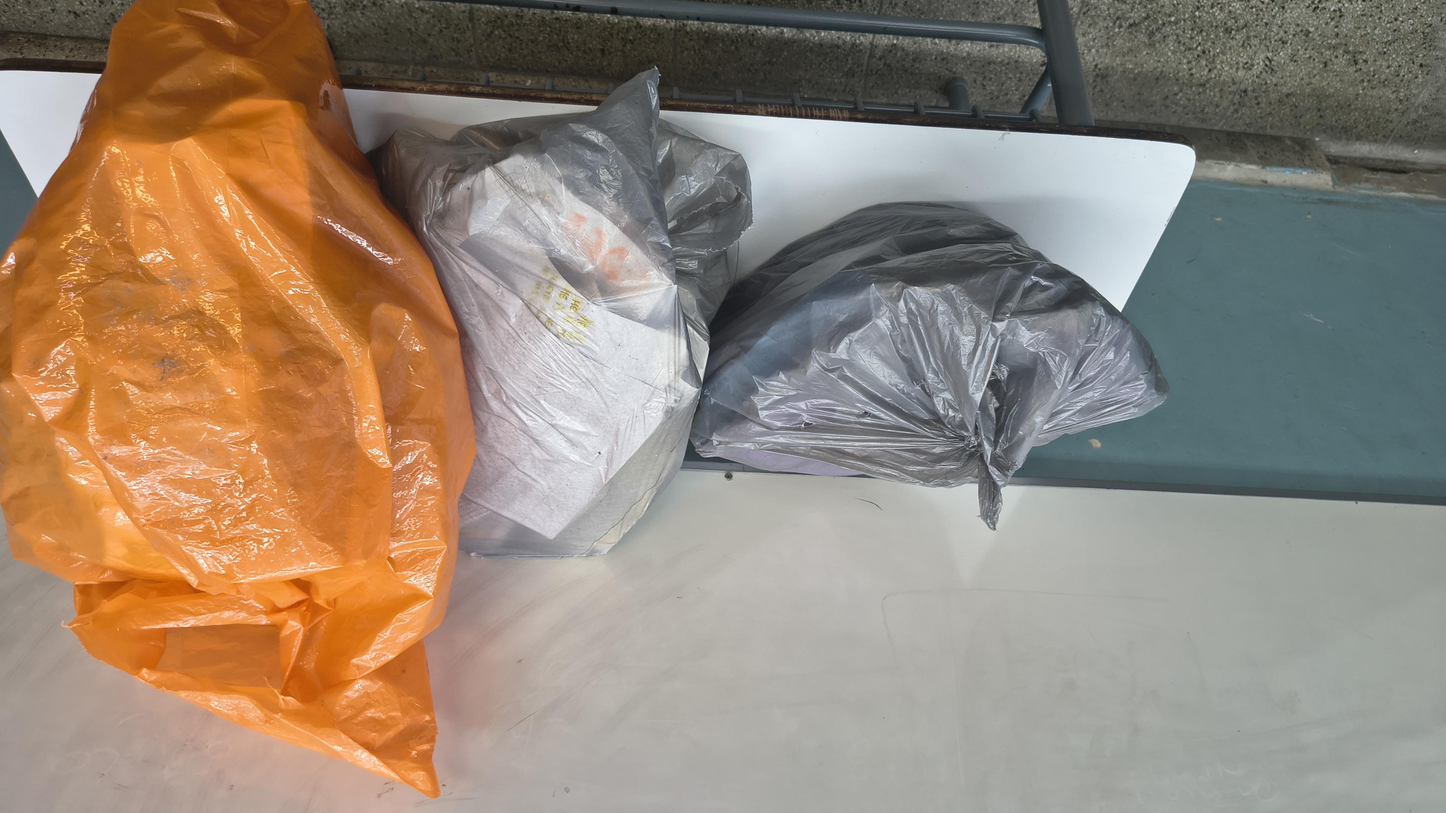Garbage: (960, 9, 1446, 813), (706, 231, 1096, 736), (272, 265, 750, 639)
